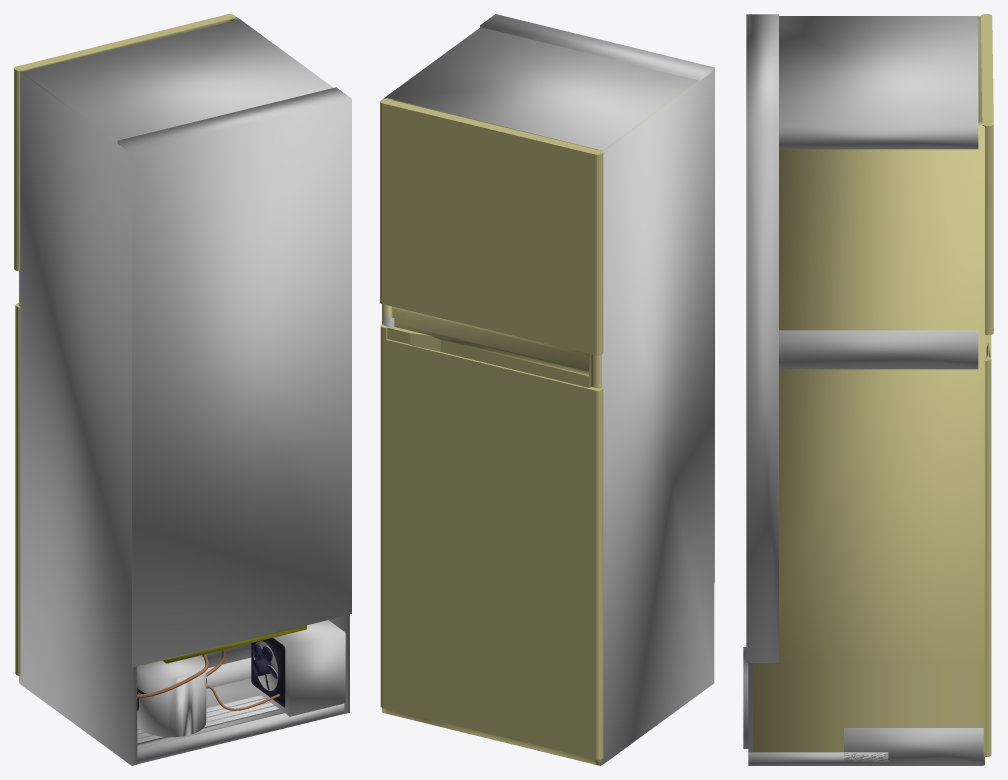
File: fridge.fbx
The picture shows the model from 3 angles, left to right: view 1: azimuth 30°, elevation 25°; view 2: azimuth 150°, elevation 25°; view 3: azimuth 270°, elevation 25°; orthographic projection. The views are drawn at different scales.
Parts seen in each view (by area): view 1: FridgeMain, fridgeDoorUp, fridgeDoorDown; view 2: FridgeMain, fridgeDoorDown, fridgeDoorUp; view 3: FridgeMain, fridgeDoorUp, fridgeDoorDown.
Part boxes in pixels (left/top/right/bottom): FridgeMain: left=19, top=17, right=351, bottom=765; fridgeDoorUp: left=14, top=14, right=235, bottom=271; fridgeDoorDown: left=15, top=303, right=20, bottom=675; FridgeMain: left=382, top=14, right=714, bottom=765; fridgeDoorDown: left=380, top=324, right=603, bottom=759; fridgeDoorUp: left=380, top=99, right=603, bottom=355; FridgeMain: left=743, top=14, right=988, bottom=765; fridgeDoorUp: left=980, top=14, right=993, bottom=334; fridgeDoorDown: left=985, top=335, right=991, bottom=756.
Bounding box in the file's own units: 61.05 × 57.32 × 162.
